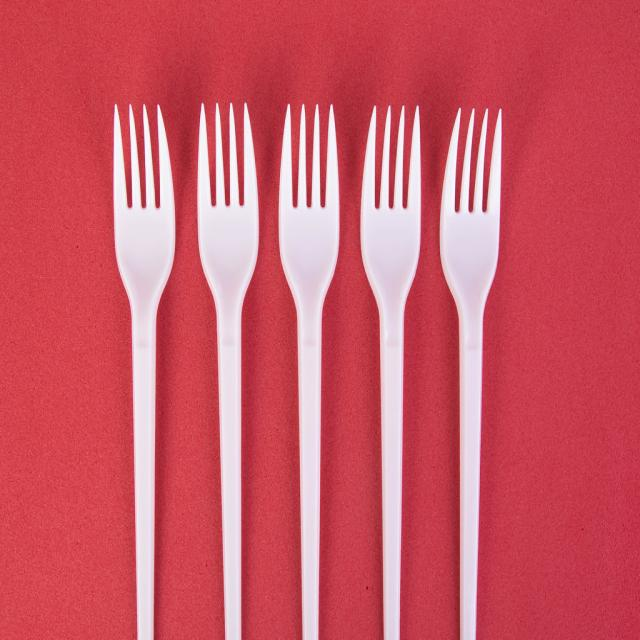Plastic: (442, 103, 542, 640), (97, 99, 181, 640), (353, 101, 436, 640), (192, 97, 272, 640), (272, 98, 348, 640)
